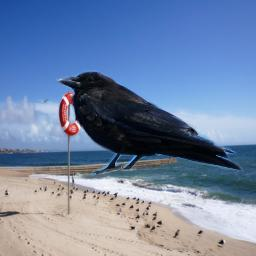Crow: (54, 70, 244, 175)
